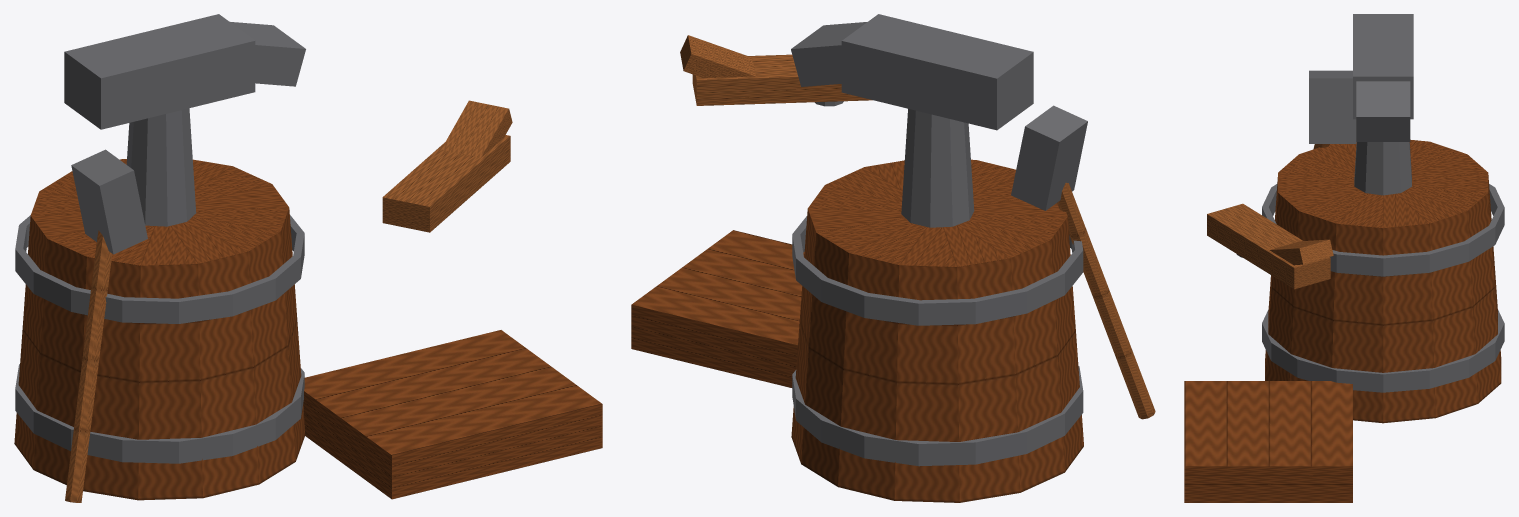
File: distillery-and-bonded-warehouse-cooperage-anvil-and-cr-2d4eeab3__38699.glb
The picture shows the model from 3 angles, left to right: view 1: azimuth 30°, elevation 25°; view 2: azimuth 150°, elevation 25°; view 3: azimuth 270°, elevation 25°; orthographic projection. The views are drawn at different scales.
Visible parts, largest first — view 1: cooperage-anvil-and-croze-oak, cooperage-anvil-and-croze-iron, cooperage-anvil-and-croze-timber; view 2: cooperage-anvil-and-croze-oak, cooperage-anvil-and-croze-iron, cooperage-anvil-and-croze-timber; view 3: cooperage-anvil-and-croze-oak, cooperage-anvil-and-croze-iron, cooperage-anvil-and-croze-timber.
Boxes of the visible parts, x1=… form: cooperage-anvil-and-croze-oak: x1=14, y1=159, x2=602, y2=500; cooperage-anvil-and-croze-iron: x1=15, y1=14, x2=305, y2=463; cooperage-anvil-and-croze-timber: x1=65, y1=100, x2=512, y2=502; cooperage-anvil-and-croze-oak: x1=631, y1=159, x2=1083, y2=502; cooperage-anvil-and-croze-iron: x1=791, y1=14, x2=1087, y2=466; cooperage-anvil-and-croze-timber: x1=680, y1=35, x2=1155, y2=419; cooperage-anvil-and-croze-oak: x1=1184, y1=139, x2=1501, y2=502; cooperage-anvil-and-croze-iron: x1=1236, y1=14, x2=1504, y2=392; cooperage-anvil-and-croze-timber: x1=1207, y1=144, x2=1333, y2=289.
Bounding box in the file's own units: 1.36 × 1.07 × 0.95.
3 materials, 2 textured.
